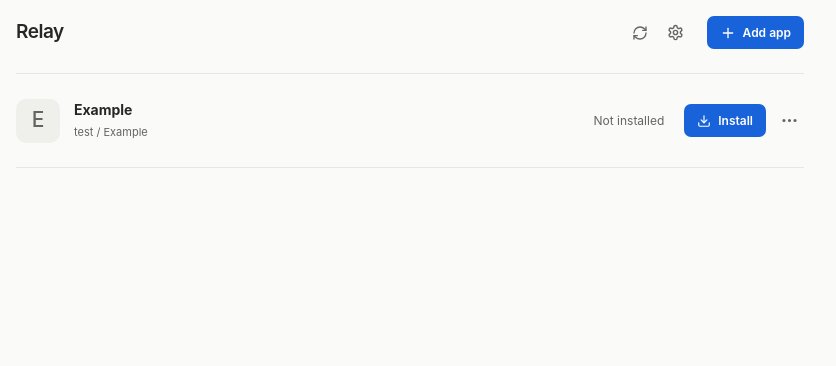
it: library workflow › opens contextual actions through an accessibility click without pointer events
Click the button named "Actions for Example": (789, 120) [774,106,804,136]
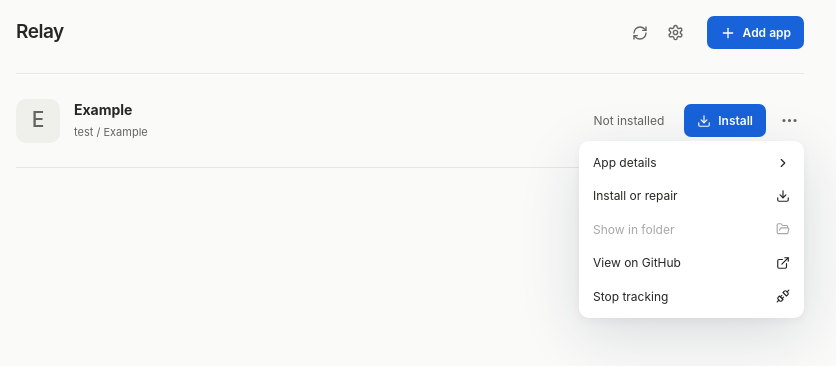
Expected: the menu item "App details" is shown, [593,155,790,170]
